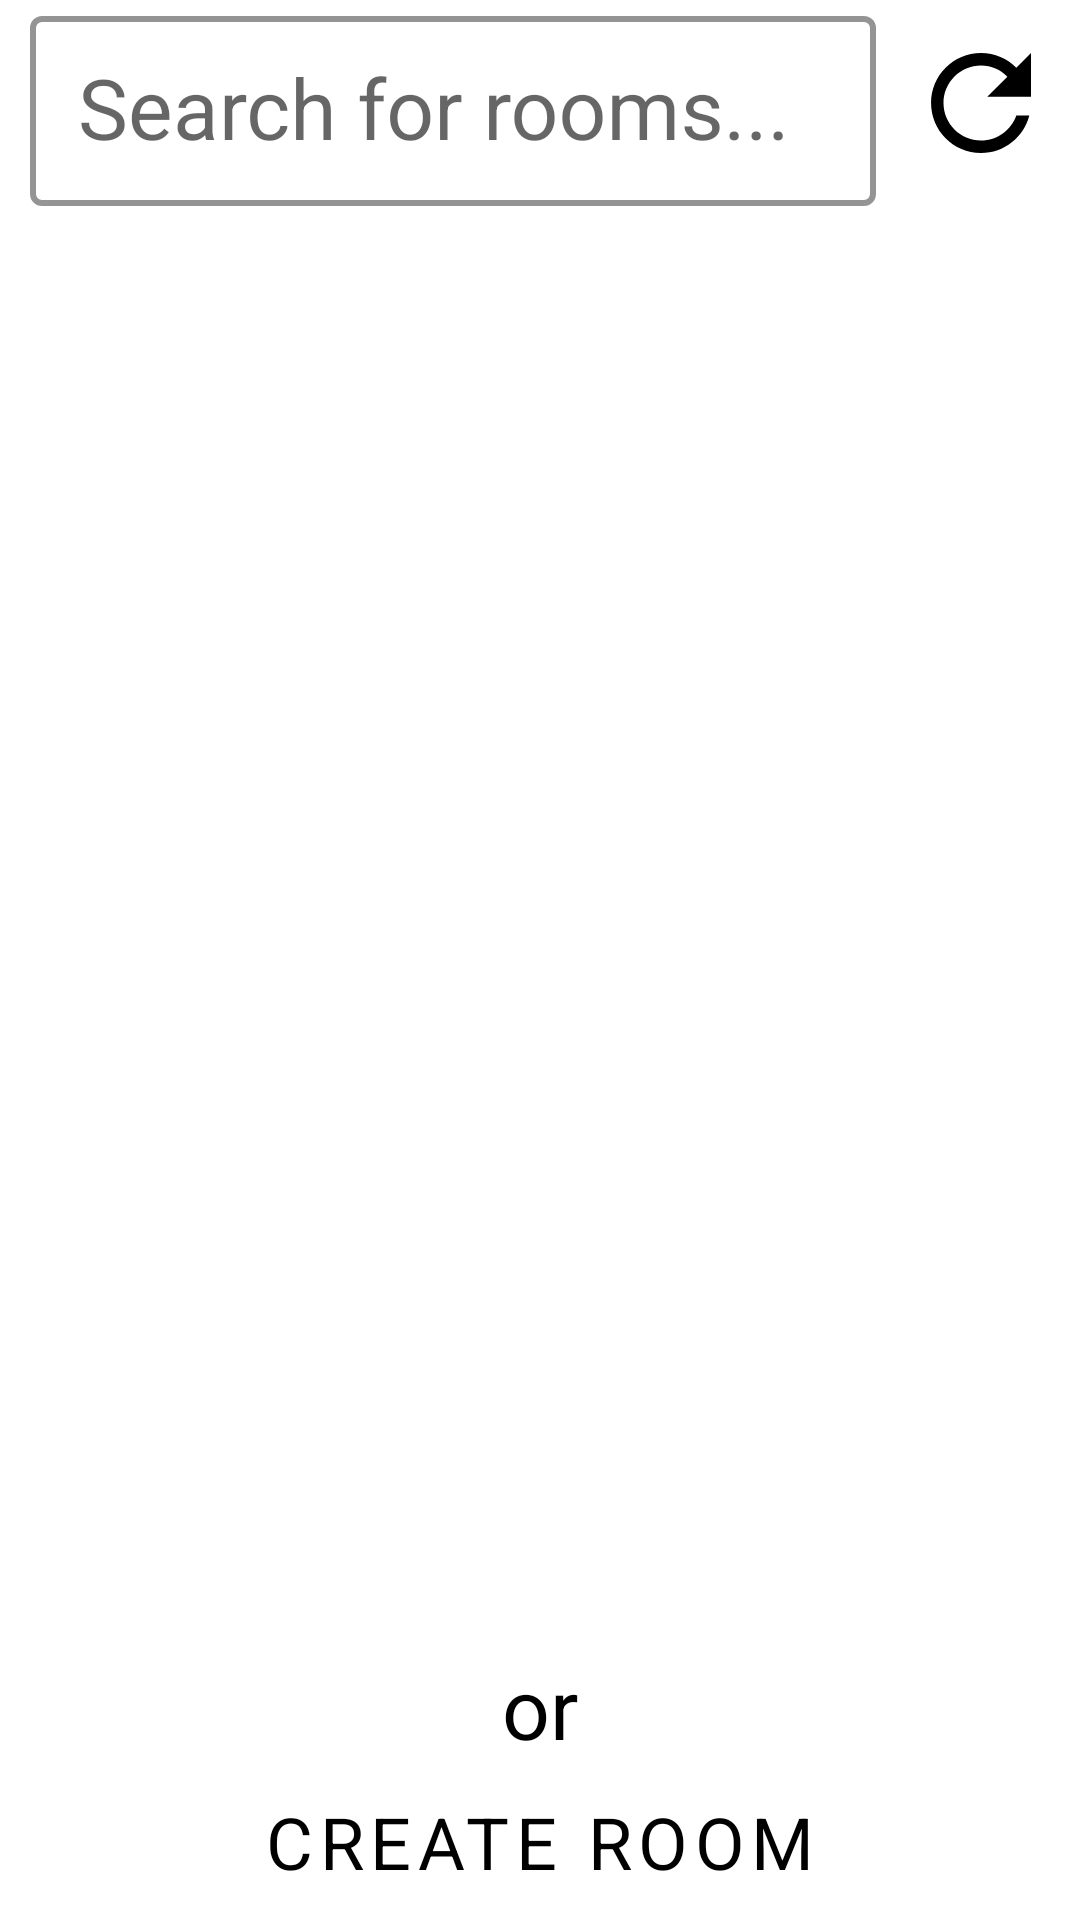

Icons on this 1080×1920 Android screen, each with the point to tap as (x,y):
refresh: (981,103)
